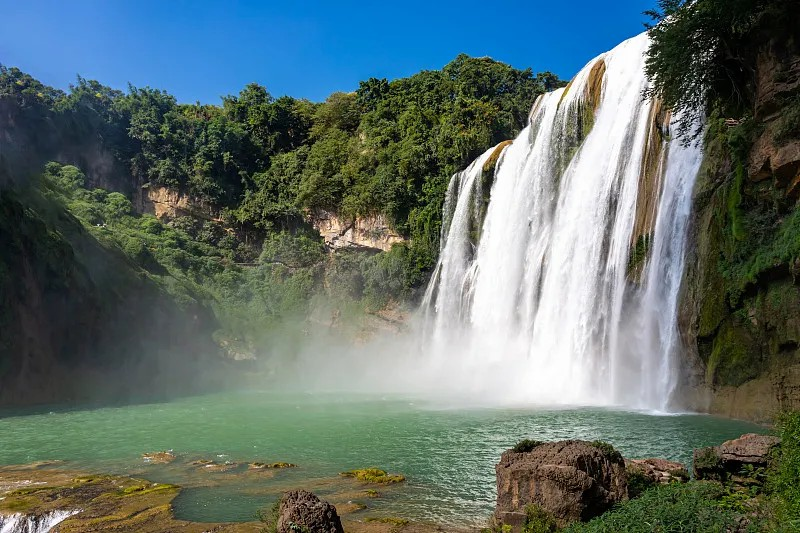Huangguoshu: (417, 19, 701, 414)
